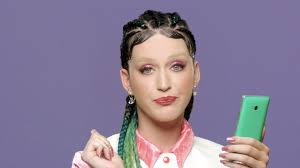white_female: (128, 31, 192, 115)
